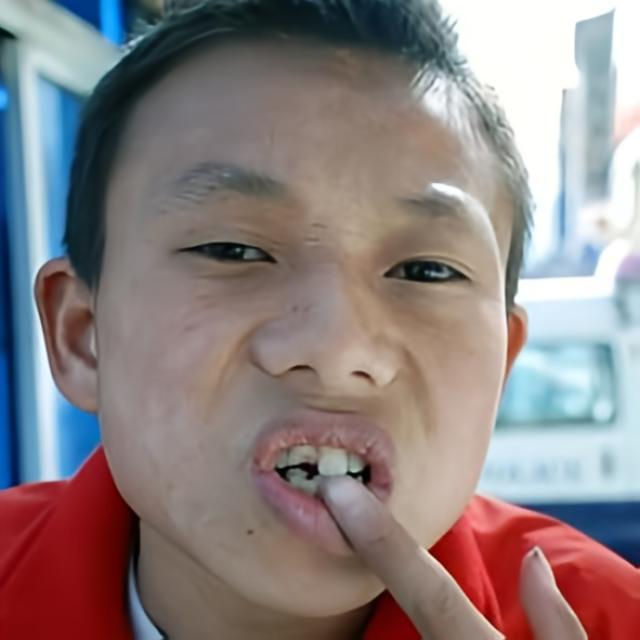disgust: (94, 31, 510, 620)
